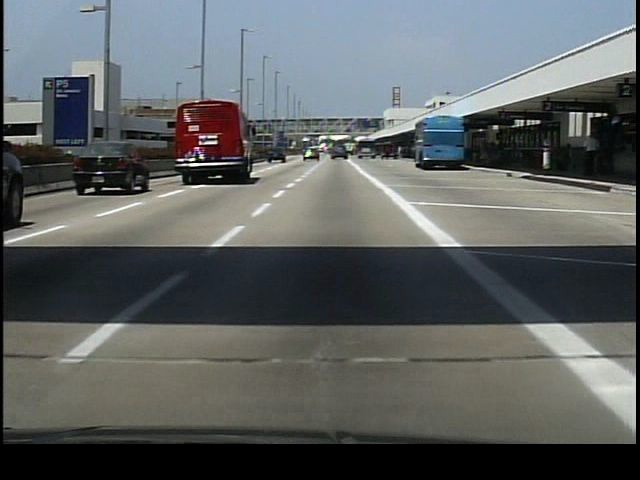person: (581, 132, 601, 179)
